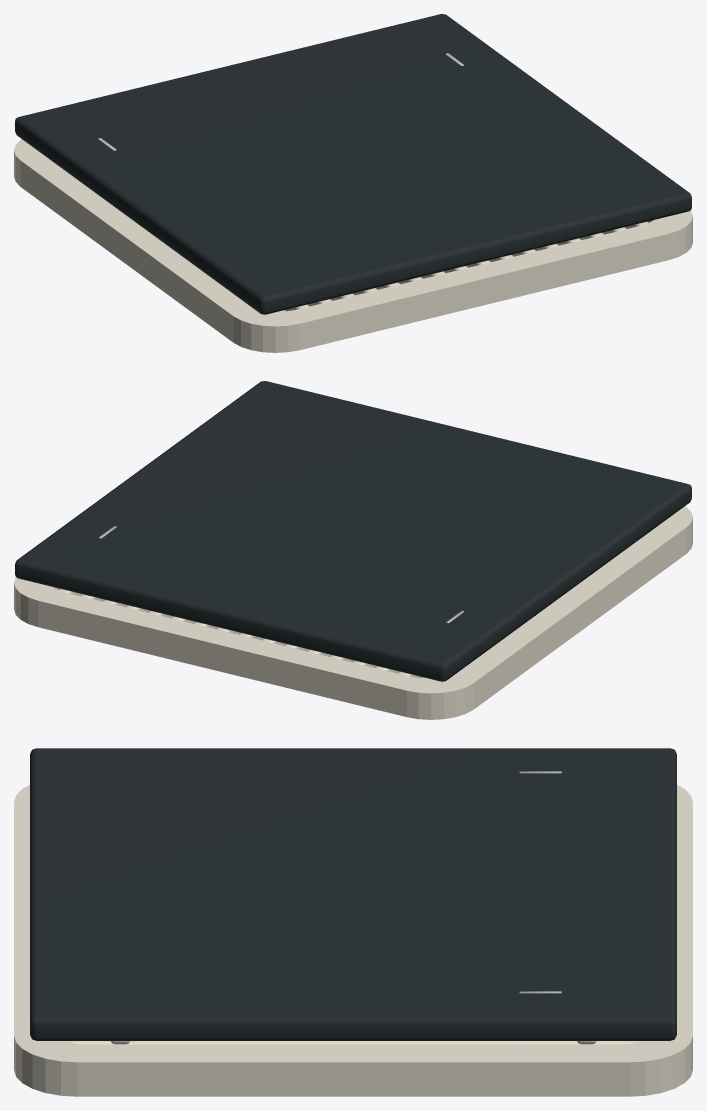
File: bath-exhaust-fan.glb
3 views of the same model, one above another, from view 1: azimuth 30°, elevation 25°; view 2: azimuth 150°, elevation 25°; view 3: azimuth 270°, elevation 25° (orthographic). The views are drawn at different scales.
Parts seen in each view (by area): view 1: catalog_surface_UVMap, catalog_surface_RealismUV; view 2: catalog_surface_UVMap, catalog_surface_RealismUV; view 3: catalog_surface_UVMap, catalog_surface_RealismUV.
Part boxes in pixels (x1=…): catalog_surface_UVMap: x1=15, y1=14, x2=691, y2=314; catalog_surface_RealismUV: x1=14, y1=53, x2=692, y2=352; catalog_surface_UVMap: x1=15, y1=381, x2=691, y2=681; catalog_surface_RealismUV: x1=14, y1=506, x2=692, y2=719; catalog_surface_UVMap: x1=30, y1=748, x2=676, y2=1040; catalog_surface_RealismUV: x1=14, y1=771, x2=692, y2=1096.
Bounding box in the file's own units: 0.3 × 0.035 × 0.3.
